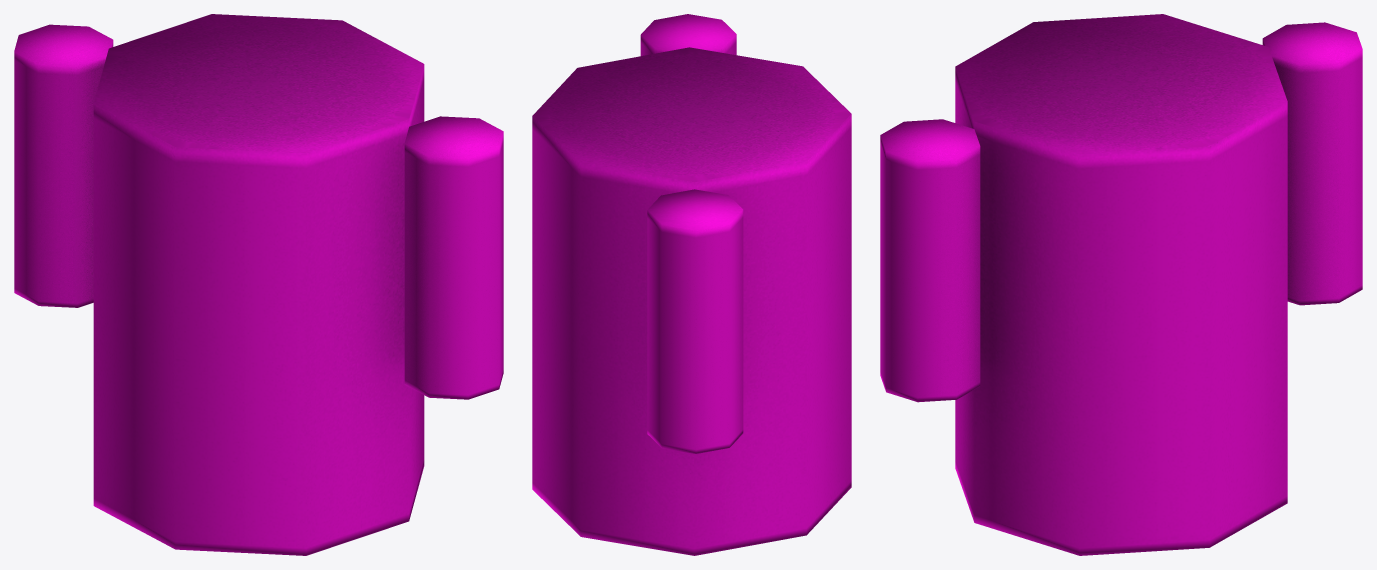
File: Android_rosa.dae
The picture shows the model from 3 angles, left to right: view 1: azimuth 30°, elevation 25°; view 2: azimuth 150°, elevation 25°; view 3: azimuth 270°, elevation 25°; orthographic projection. The views are drawn at different scales.
Parts seen in each view (by area): view 1: Body, LeftHand, RightHand; view 2: Body, RightHand, LeftHand; view 3: Body, LeftHand, RightHand.
Boxes of the visible parts, left/top/right/bottom form: Body: left=93, top=14, right=424, bottom=555; LeftHand: left=404, top=116, right=503, bottom=399; RightHand: left=14, top=24, right=113, bottom=307; Body: left=532, top=47, right=851, bottom=555; RightHand: left=647, top=189, right=743, bottom=453; LeftHand: left=640, top=14, right=736, bottom=55; Body: left=955, top=14, right=1287, bottom=555; LeftHand: left=880, top=119, right=980, bottom=402; RightHand: left=1262, top=22, right=1362, bottom=305.
Size of the model in its own units: 1.94 by 2.81 by 2.58.
1 material, 1 textured.
